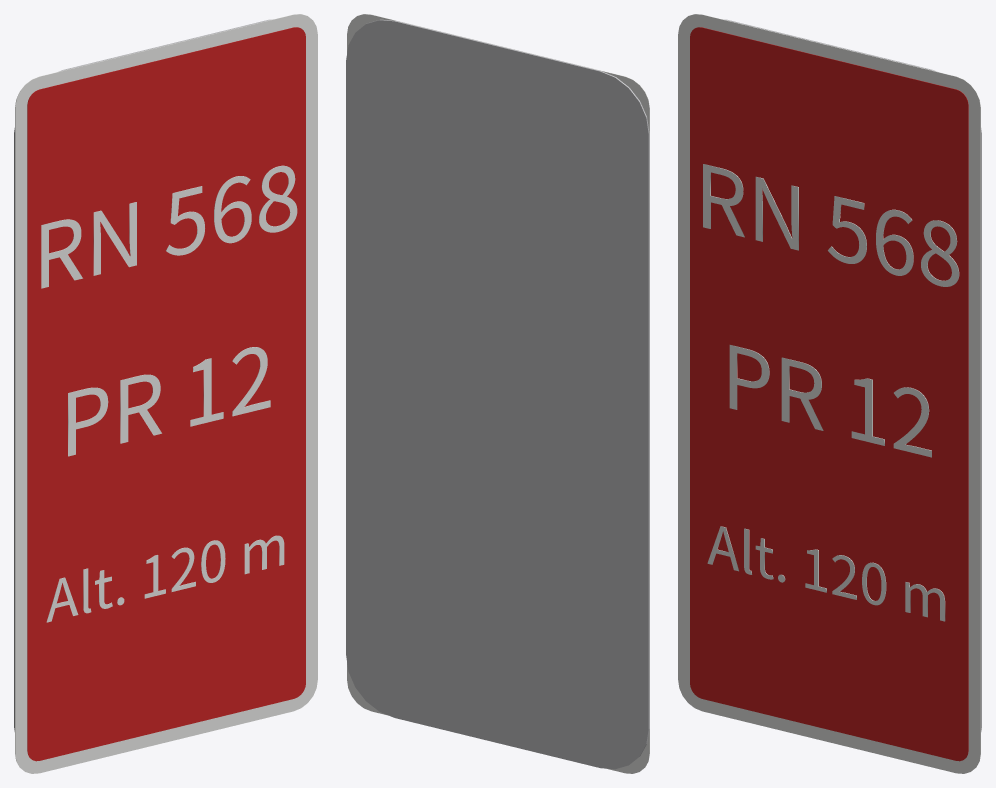
The picture shows the model from 3 angles, left to right: view 1: azimuth 30°, elevation 25°; view 2: azimuth 150°, elevation 25°; view 3: azimuth 330°, elevation 25°; orthographic projection.
Parts seen in each view (by area): view 1: E52b_fond01, E52b_cadre00, E52b_txt02, E52b_txt03, E52b_txt04, E52b_dos; view 2: E52b_dos, E52b_cadre00; view 3: E52b_fond01, E52b_cadre00, E52b_txt02, E52b_txt03, E52b_txt04, E52b_dos.
Boxes of the visible parts, bbox=[...] form: E52b_fond01: bbox=[27, 27, 305, 761]; E52b_cadre00: bbox=[15, 14, 317, 773]; E52b_txt02: bbox=[41, 165, 297, 288]; E52b_txt03: bbox=[68, 347, 270, 456]; E52b_txt04: bbox=[46, 535, 284, 622]; E52b_dos: bbox=[14, 19, 272, 731]; E52b_dos: bbox=[346, 19, 649, 769]; E52b_cadre00: bbox=[347, 14, 649, 773]; E52b_fond01: bbox=[690, 27, 968, 761]; E52b_cadre00: bbox=[678, 14, 980, 773]; E52b_txt02: bbox=[703, 164, 959, 286]; E52b_txt03: bbox=[729, 345, 931, 457]; E52b_txt04: bbox=[707, 526, 945, 621]; E52b_dos: bbox=[723, 19, 981, 731].
Size of the model in its own units: 0.25 by 0.55 by 0.0033.
